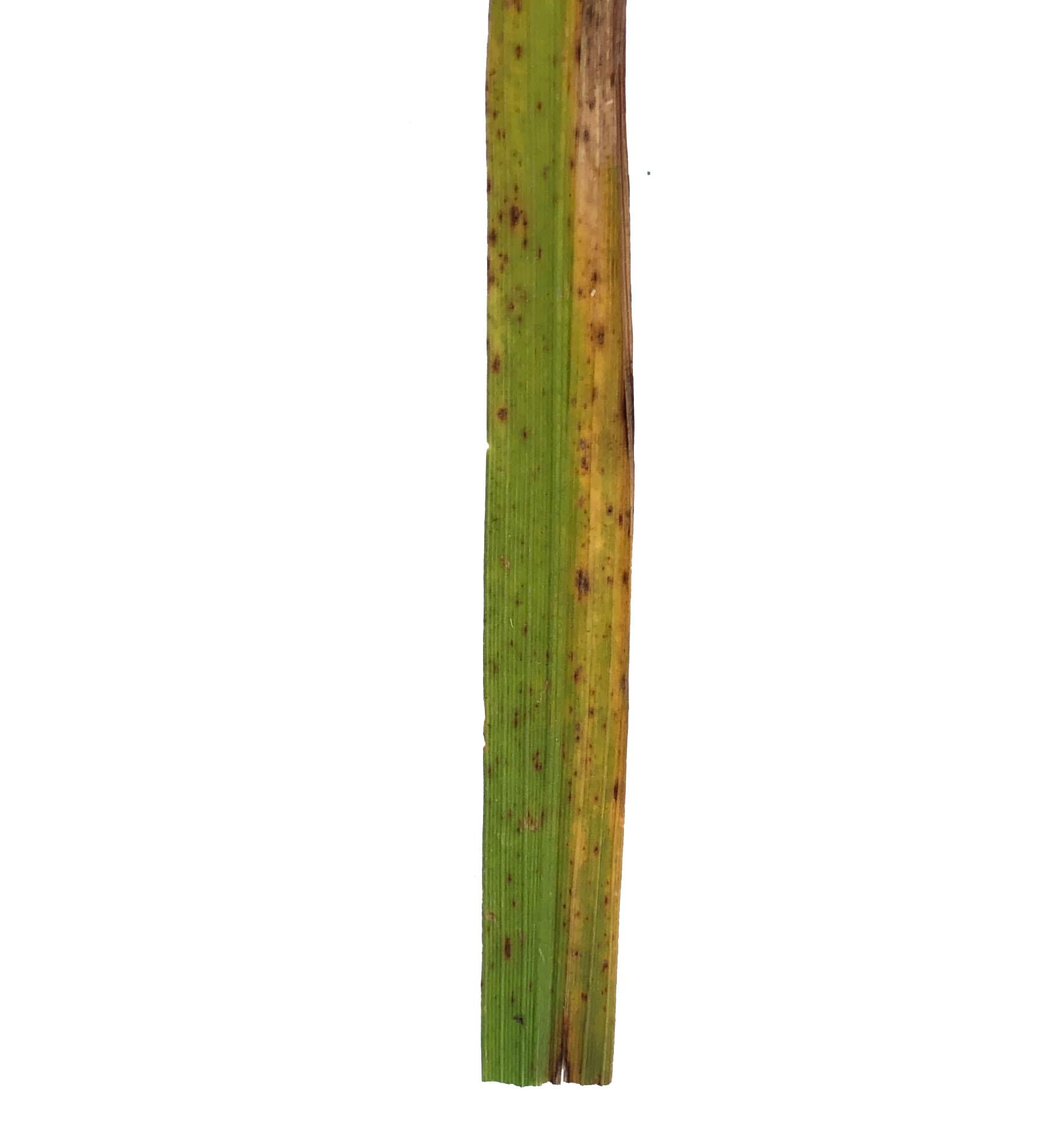Tungro: (478, 0, 635, 1093)
